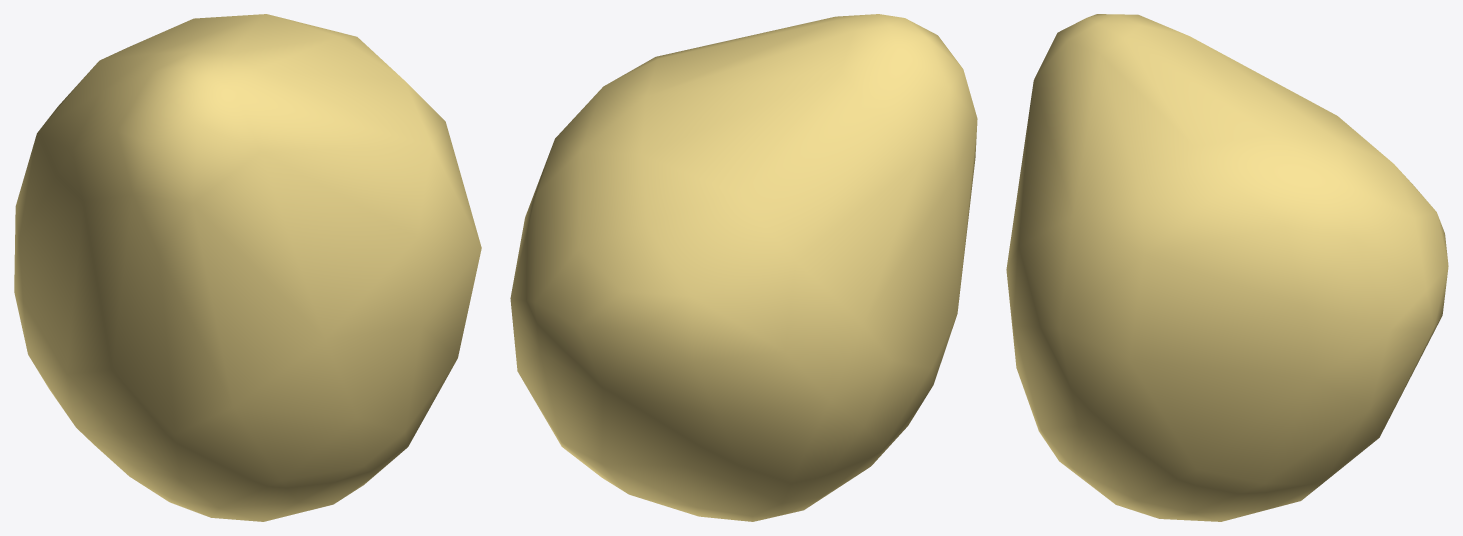
3 renders of one model, left to right at view 1: azimuth 30°, elevation 25°; view 2: azimuth 150°, elevation 25°; view 3: azimuth 270°, elevation 25°, orthographic. The views are drawn at different scales.
Parts seen in each view (by area): view 1: ZA_d8097f69ae9560d2; view 2: ZA_d8097f69ae9560d2; view 3: ZA_d8097f69ae9560d2.
Boxes of the visible parts, bbox=[...] form: ZA_d8097f69ae9560d2: bbox=[14, 14, 481, 521]; ZA_d8097f69ae9560d2: bbox=[510, 14, 977, 521]; ZA_d8097f69ae9560d2: bbox=[1006, 14, 1448, 521].
Bounding box in the file's own units: 0.00384 × 0.00487 × 0.00443.
